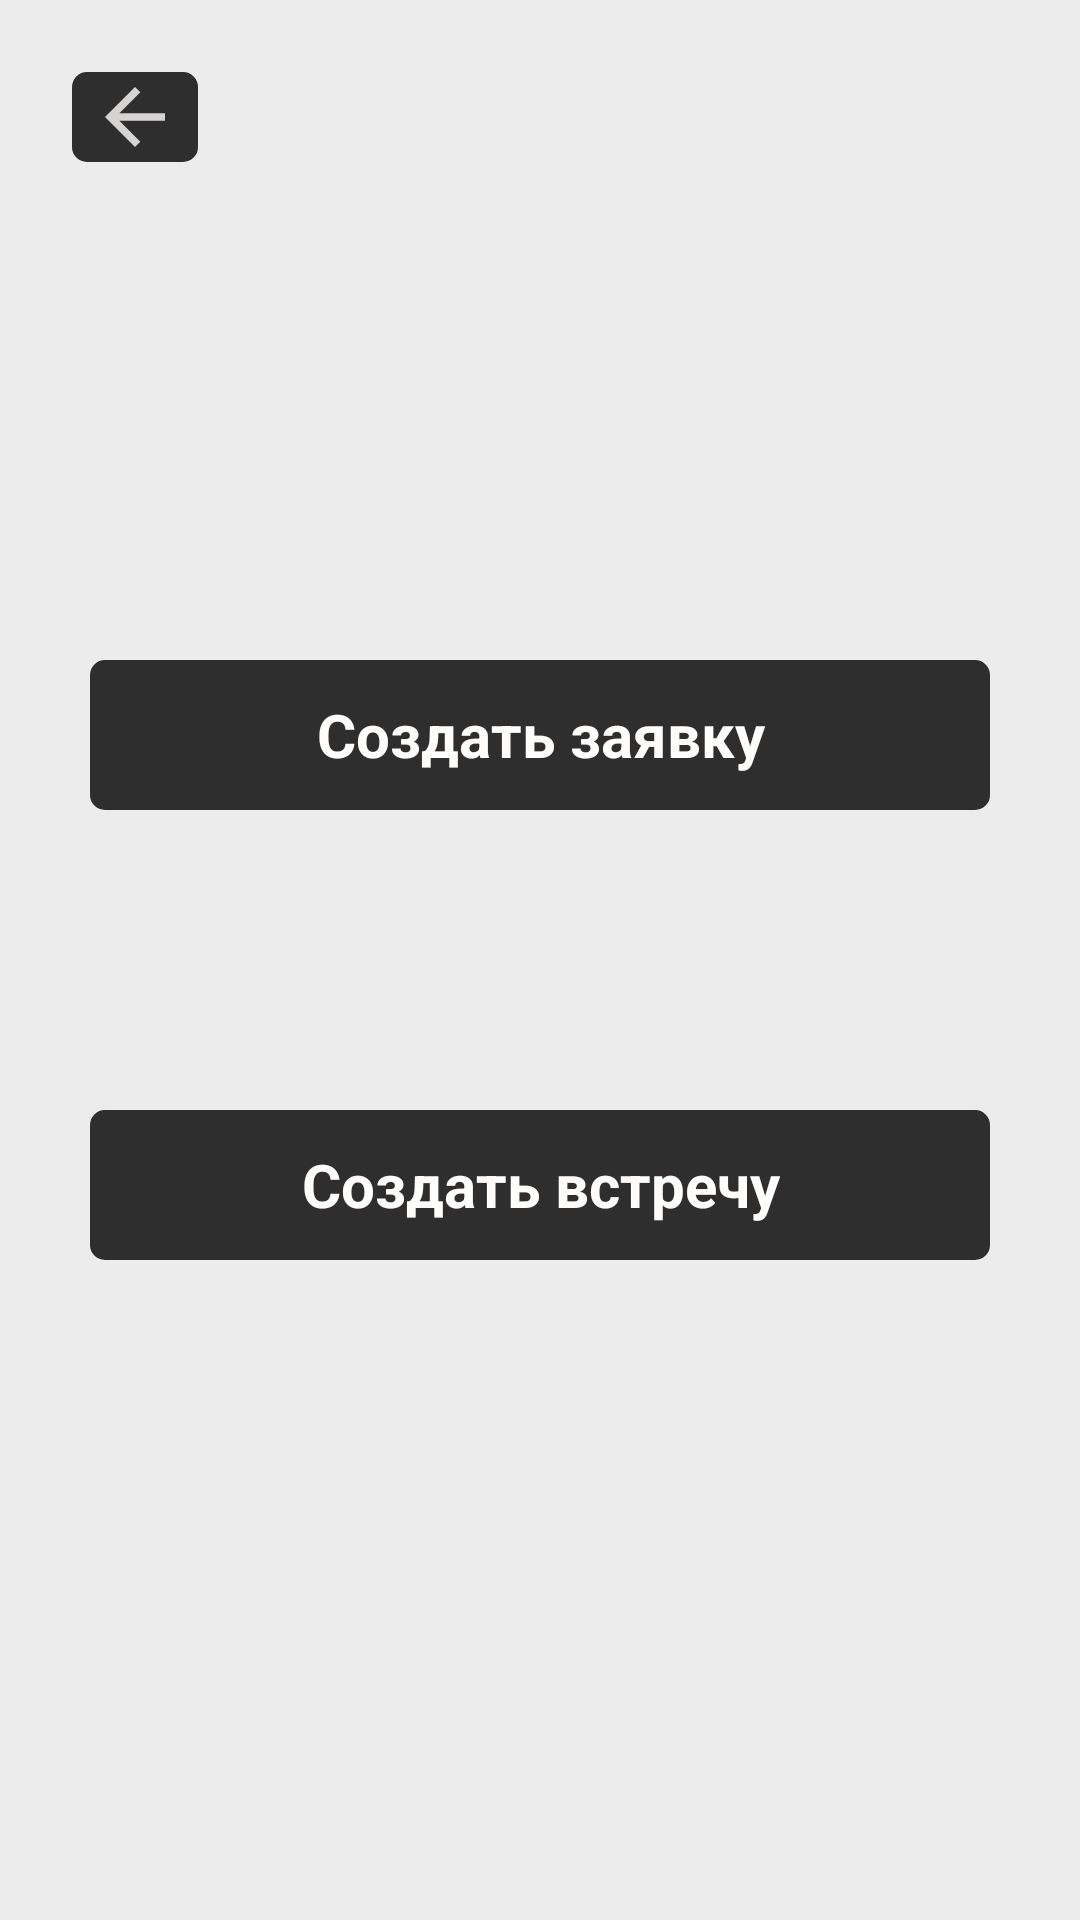

Named icons in this screenshot (1080 × 1920) and their bounding boxes, (x1, y1, x2, y2):
back: (72, 72, 198, 162)
